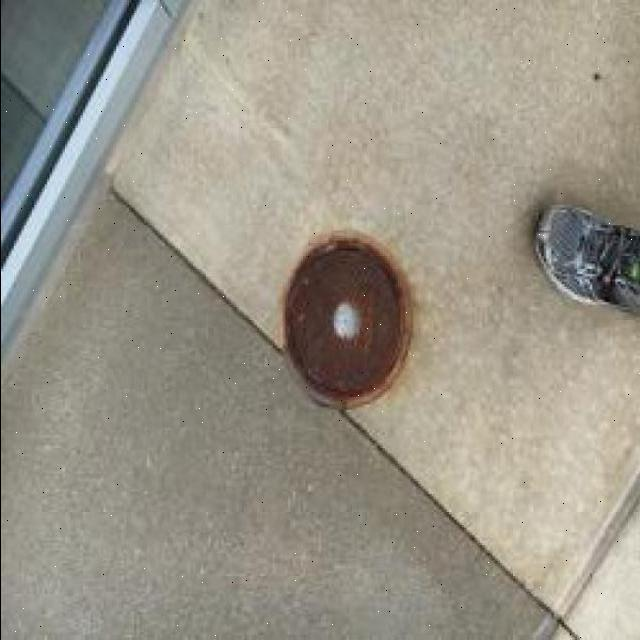corrosion: (281, 232, 413, 409)
crack: (119, 206, 284, 363), (337, 411, 480, 557), (468, 564, 579, 638)
dampens: (332, 242, 365, 256)
